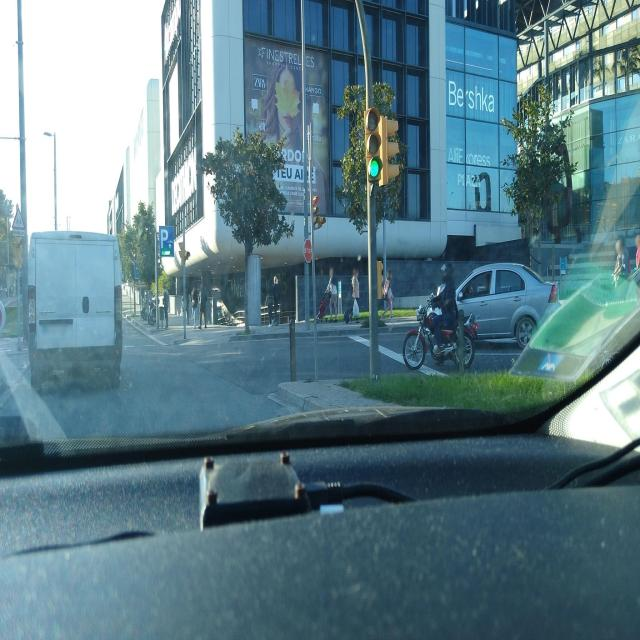bike: (403, 293, 475, 372), (148, 300, 161, 327), (140, 298, 150, 322)
car: (26, 228, 123, 389), (427, 261, 559, 349)
